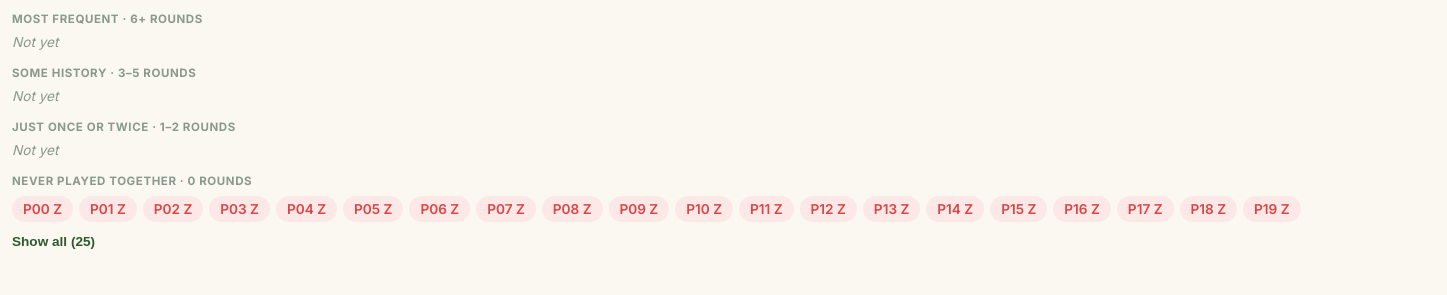
Scenario: PlayedWithPanel › collapses the never-played bucket past the cap with a Show all toggle
The width and height of the screenshot is (1447, 295).
Expected: the text "P24 Z" is not shown
What coordinates should you click on to do the following:
click the button "Show all (25)"
I would click on:
 (54, 242)
Its box is x1=12 y1=230 x2=95 y2=253.
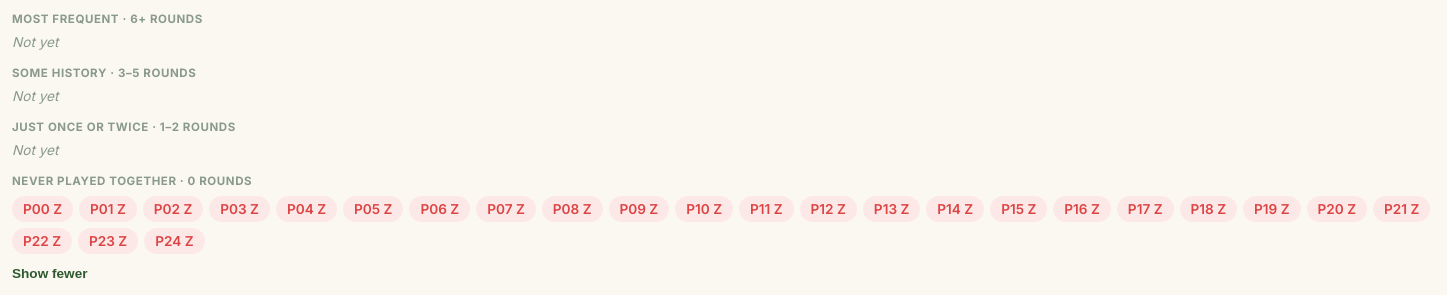
Result: the link "P24 Z" is shown at x1=144 y1=228 x2=205 y2=254
